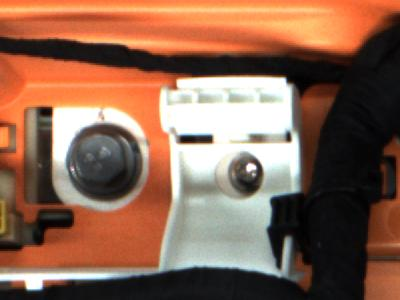nut_b: (62, 129, 151, 213)
